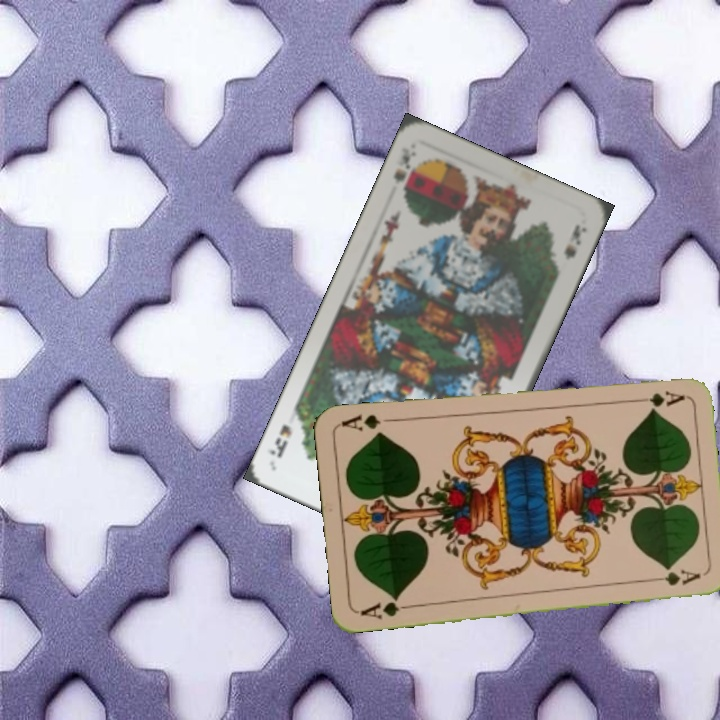GA: (356, 593, 415, 622), (627, 387, 686, 408)
SK: (389, 143, 421, 201)
